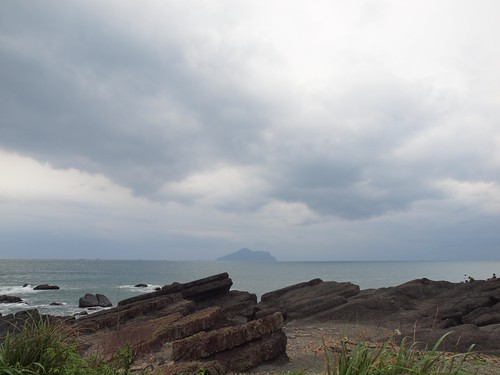turtleIsland: (217, 249, 278, 265)
